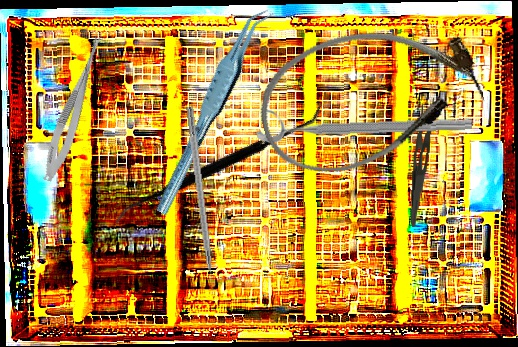Cannula: (244, 2, 494, 191)
Dressing Forceps: (409, 96, 437, 228)
Fixation Ring: (256, 101, 473, 144)
Hook Surgical: (184, 106, 218, 300)
Micro Scissor: (37, 26, 110, 185)
Spatula Surgical: (112, 43, 325, 284)
Tissue Forceps: (133, 3, 291, 217)
